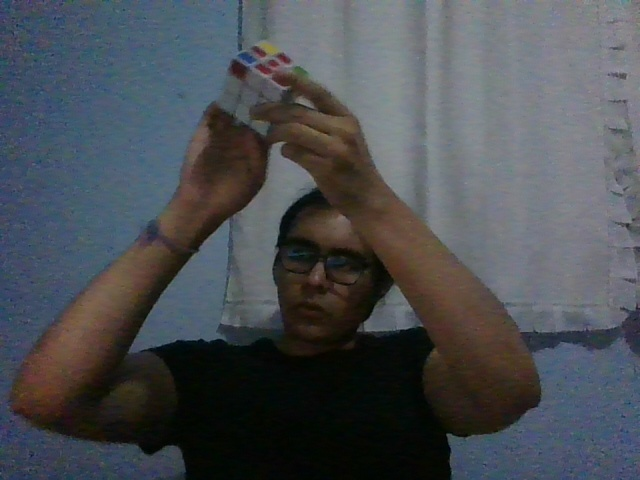rubik: (217, 40, 310, 138)
